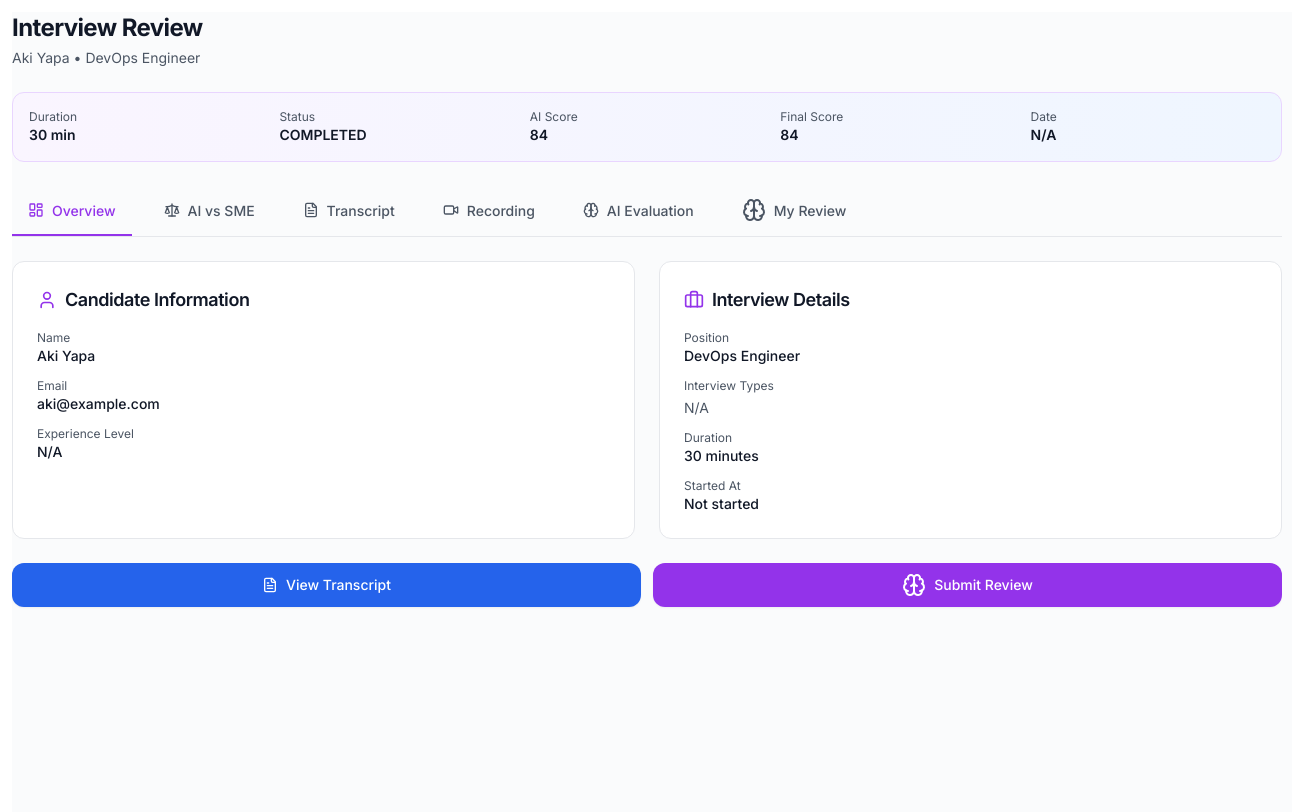
InterviewReviewEnhanced role experience › keeps SME override available for reviewer users while export stays hidden
The image size is (1292, 812).
Click the button "My Review" at (794, 211), box [726,186,862,236]
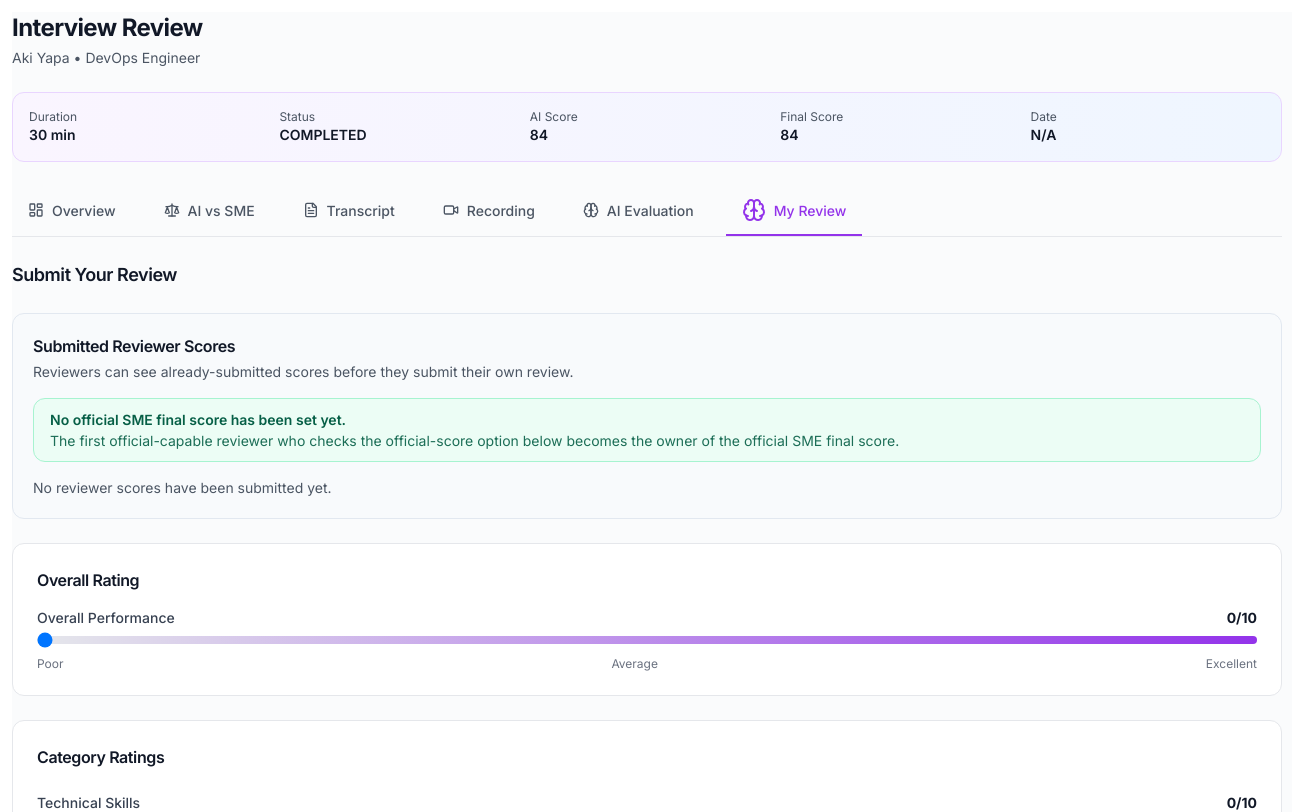
Expected: the text "No official SME final score has been set yet." is shown, [50,411,346,428]
